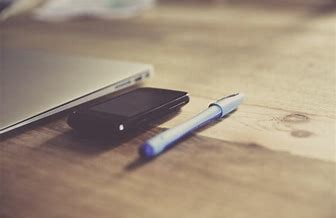pen: (135, 93, 242, 161)
